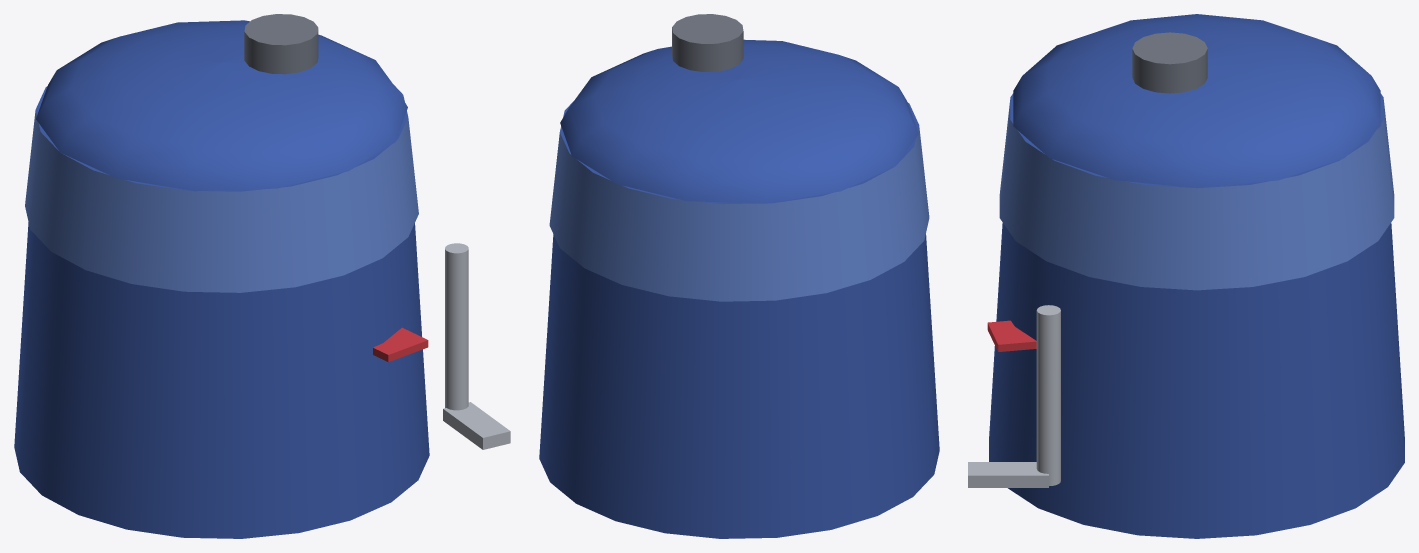
File: water_tank.glb
3 renders of one model, left to right at view 1: azimuth 30°, elevation 25°; view 2: azimuth 150°, elevation 25°; view 3: azimuth 270°, elevation 25°, orthographic. The views are drawn at different scales.
Parts seen in each view (by area): view 1: root; view 2: root; view 3: root.
Part boxes in pixels (x1,y1,x2,y2): root: (14,14,510,538); root: (539,14,939,538); root: (968,14,1404,538).
Bounding box in the file's own units: 1.56 × 1.74 × 1.62.
